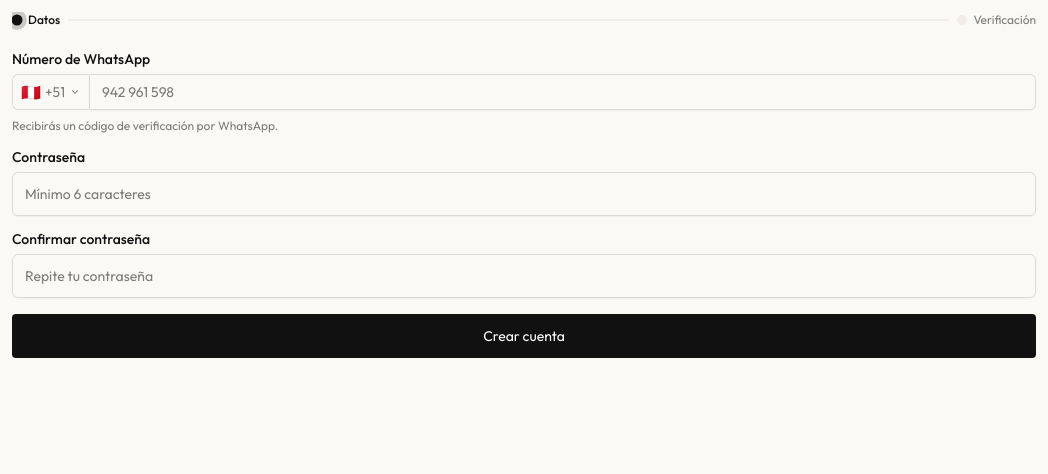
Test: SignupForm — Step 1 (Phone + Password) › shows error when phone is invalid (no digits)
Type "password123" into the password field labelled "Contraseña" at (524, 194), box [12, 172, 1036, 216]
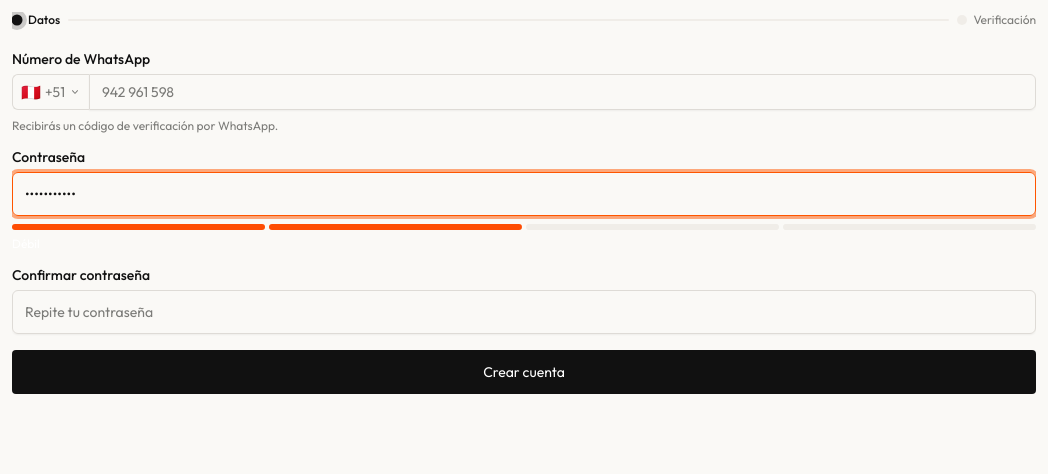
Type "password123" into the password field labelled "Confirmar contraseña" at (524, 312), box [12, 290, 1036, 334]
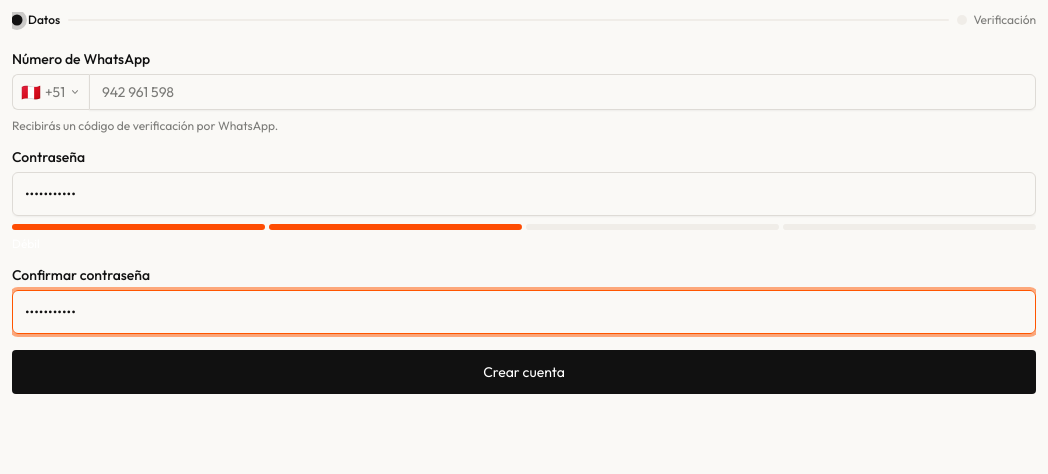
Click the button "Crear cuenta" at (524, 372), box [12, 350, 1036, 394]
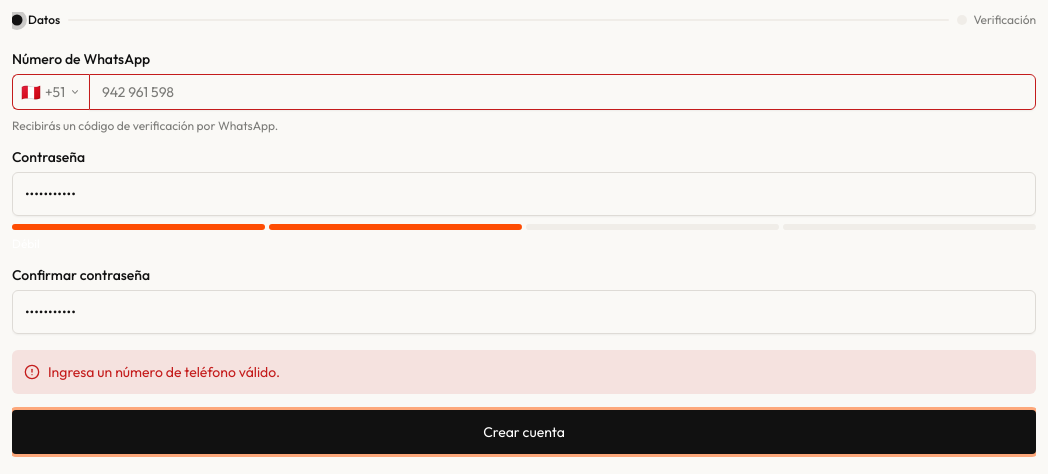
Check: the text "Ingresa un número de teléfono válido." is shown, box [48, 362, 280, 382]
